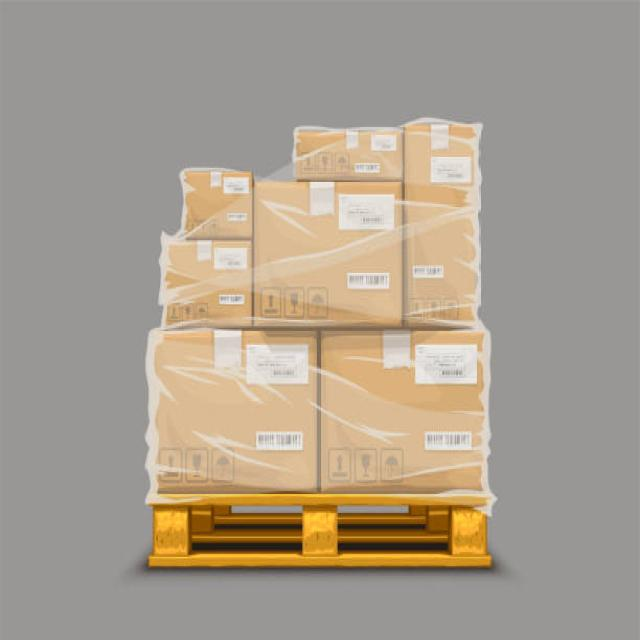Wooden-Pallets: (146, 496, 491, 583)
